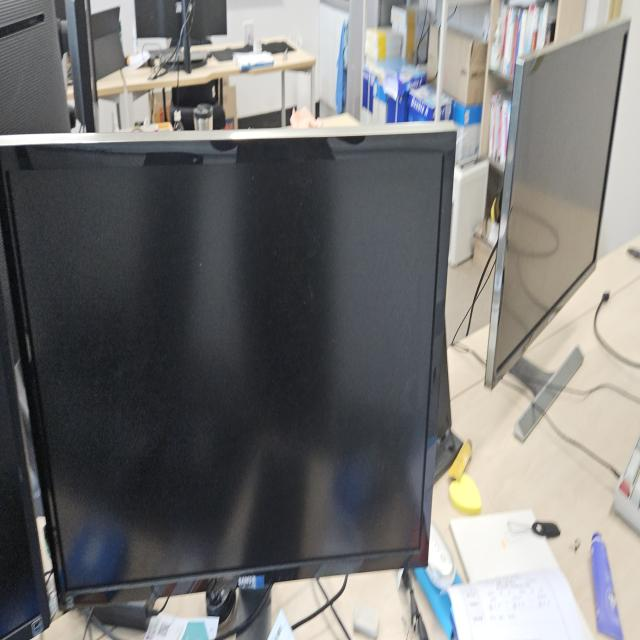Monitor: (2, 118, 460, 617)
